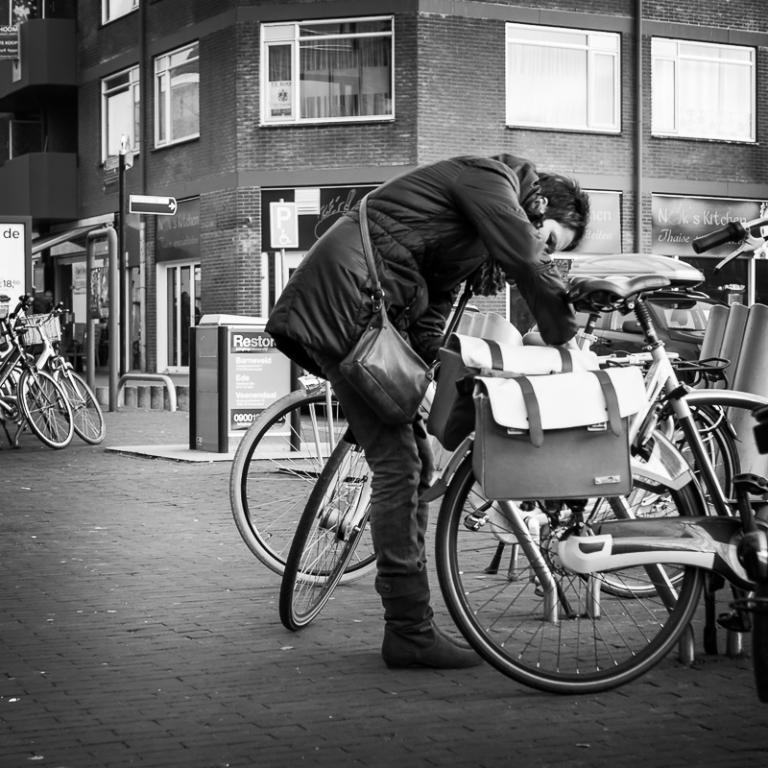Bicycle: (275, 229, 751, 622), (221, 253, 752, 578), (413, 262, 767, 678), (0, 309, 114, 430), (0, 295, 83, 441)
